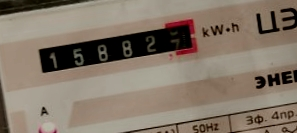1: (45, 49, 60, 69)
2: (143, 32, 157, 53)
5: (70, 45, 85, 67)
7: (169, 36, 182, 51)
8: (119, 37, 134, 59), (95, 41, 109, 63)
screen: (28, 12, 208, 82)
